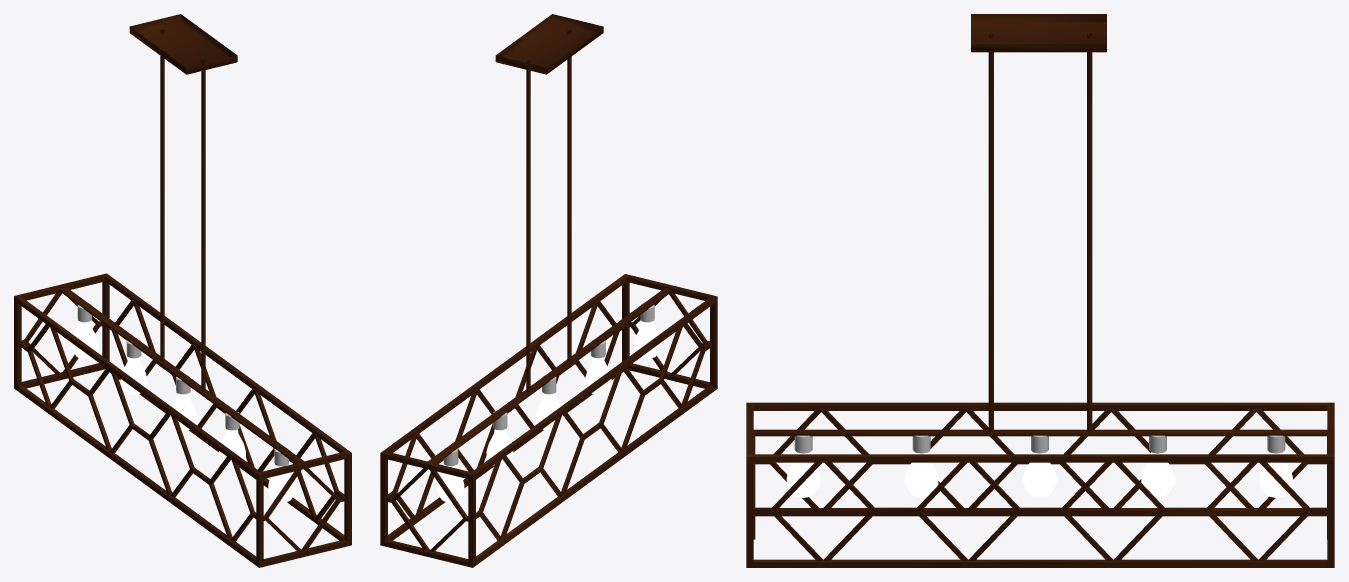
The model's file is light_square_chandelier.fbx.
3 renders of one model, left to right at view 1: azimuth 30°, elevation 25°; view 2: azimuth 150°, elevation 25°; view 3: azimuth 270°, elevation 25°, orthographic. The views are drawn at different scales.
Parts seen in each view (by area): view 1: Plane.023; view 2: Plane.023; view 3: Plane.023.
Boxes of the visible parts, x1,y1,x2,y2 form: Plane.023: [14, 14, 351, 567]; Plane.023: [380, 14, 717, 567]; Plane.023: [746, 14, 1334, 567].
Bounding box in the file's own units: 29.5 × 130 × 135.
